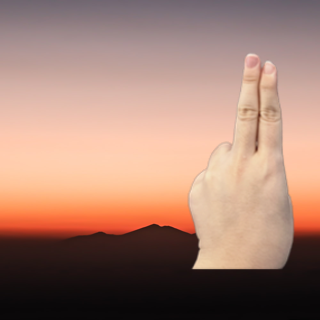DHAVE: (181, 50, 299, 267)
